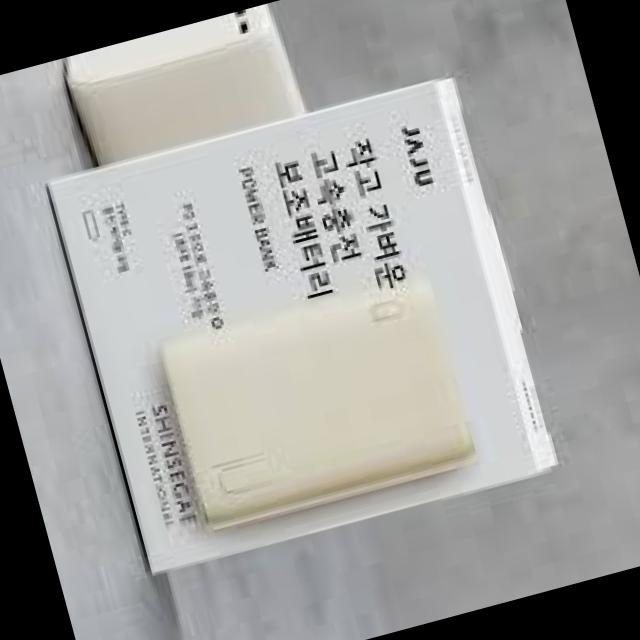portable-charger: (160, 279, 480, 532), (60, 3, 298, 175)
